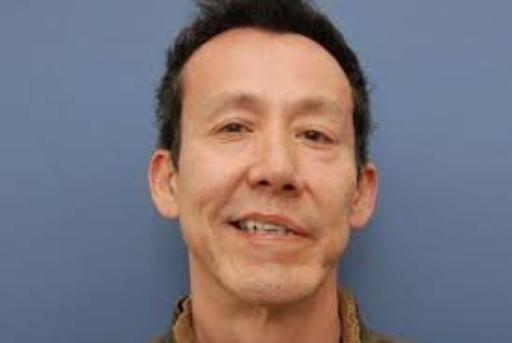left_eye: (297, 132, 343, 150)
left_lip_corner: (297, 228, 317, 245)
right_eye: (211, 123, 255, 139)
right_lip_corner: (219, 217, 240, 233)
